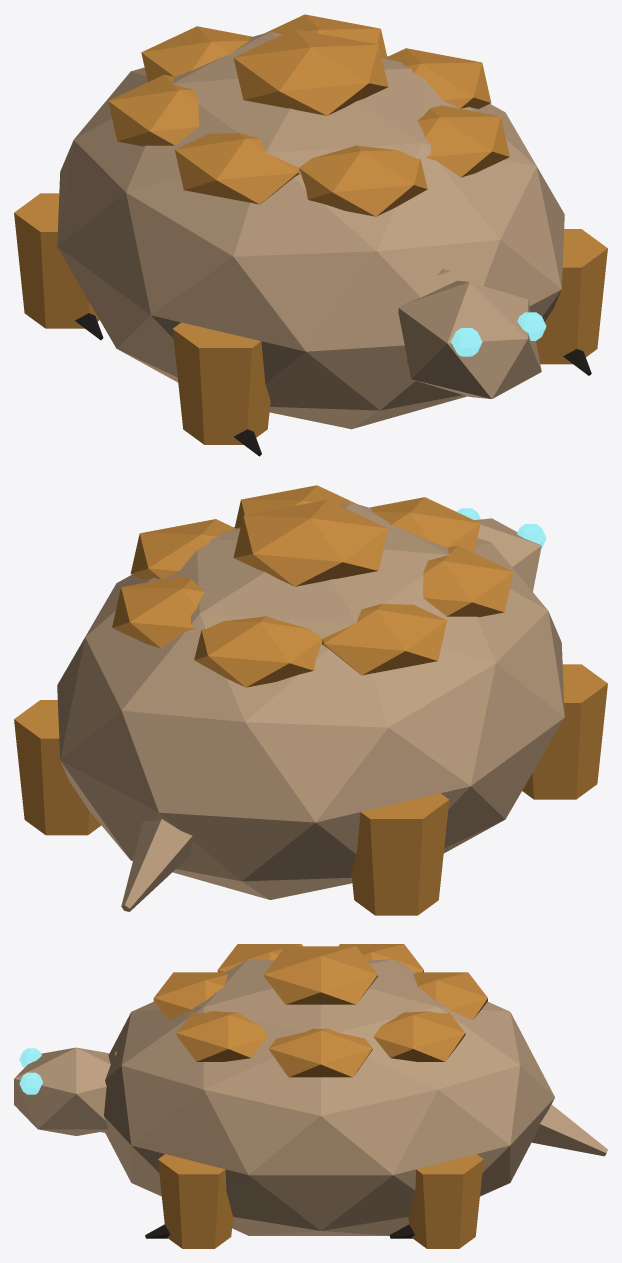
The model's file is exo-wild-shell.glb.
The picture shows the model from 3 angles, top to bottom: view 1: azimuth 30°, elevation 25°; view 2: azimuth 150°, elevation 25°; view 3: azimuth 270°, elevation 25°; orthographic projection. The views are drawn at different scales.
Visible parts, largest first — view 1: body; view 2: body; view 3: body.
Boxes of the visible parts, x1,y1,x2,y2 form: body: (14,14,607,456); body: (14,485,607,915); body: (14,944,607,1248).
Size of the model in its own units: 1.81 by 1.43 by 2.92.
